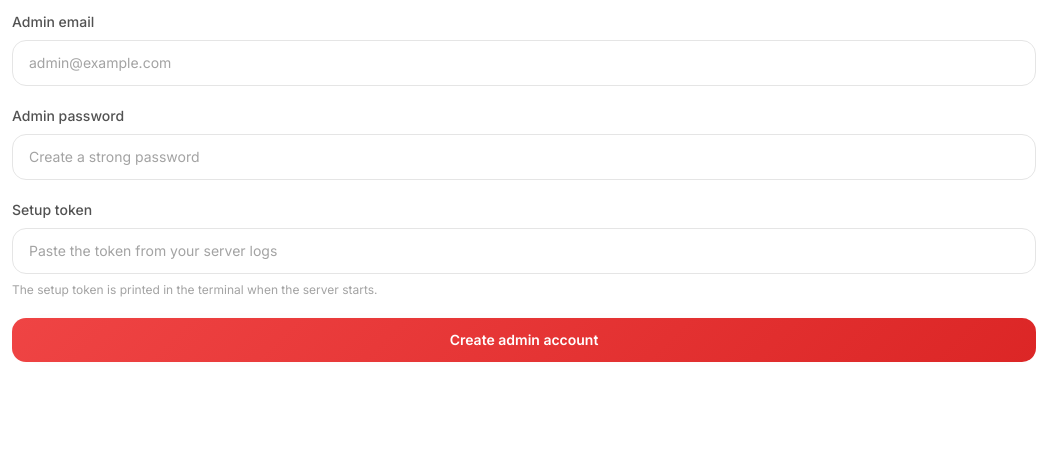
SetupWizard › validates empty fields
Click the button "Create admin account". click: (524, 340)
box: [12, 318, 1036, 362]
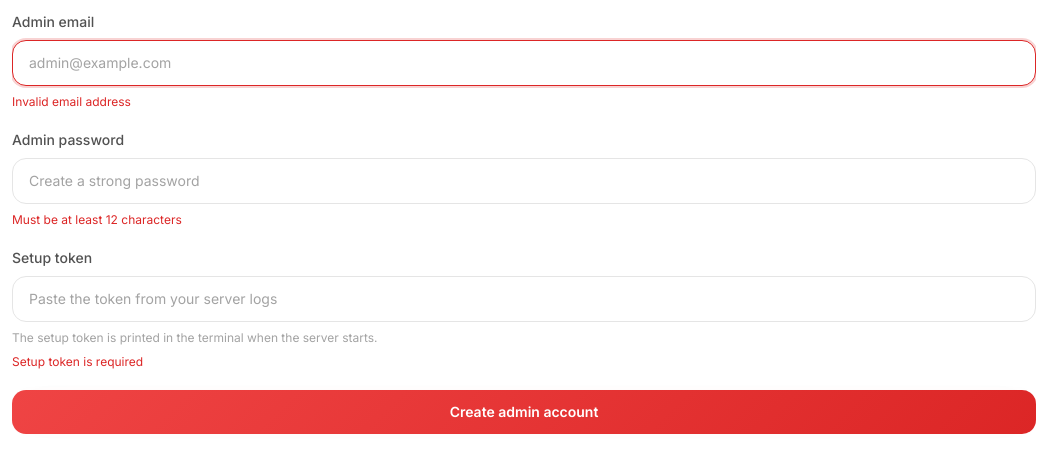
Result: the text "Invalid email address" is shown at [12, 94, 131, 109]
Result: the text "Must be at least 12 characters" is shown at [12, 212, 182, 227]
Result: the text "Setup token is required" is shown at [12, 354, 143, 369]
